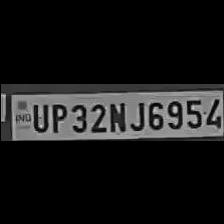2: (86, 100, 106, 132)
3: (68, 100, 86, 132)
4: (202, 94, 222, 128)
5: (183, 96, 203, 128)
6: (144, 97, 162, 130)
9: (165, 96, 183, 130)
J: (127, 97, 144, 131)
N: (106, 98, 126, 132)
P: (49, 100, 67, 132)
U: (28, 100, 48, 132)
